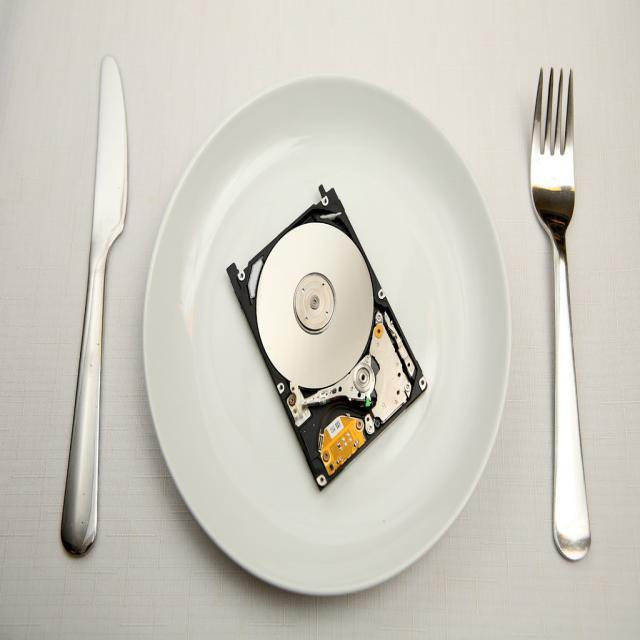ceramic plate: (145, 67, 516, 604)
